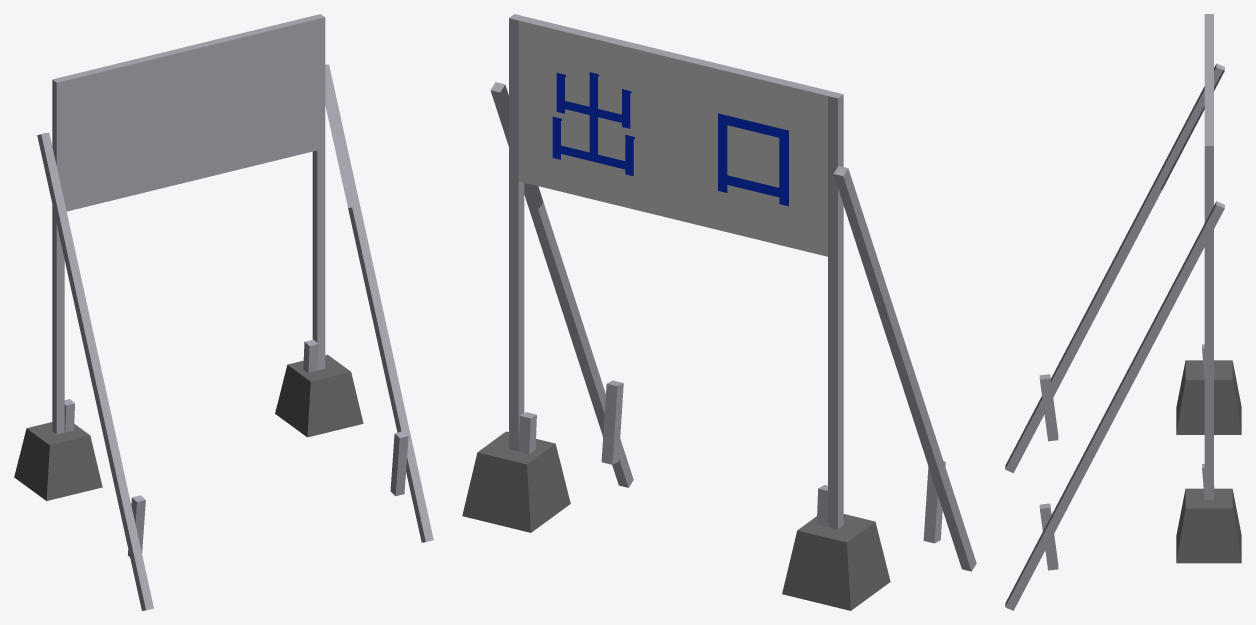
File: Deguti.fbx
3 views of the same model, side by side, from view 1: azimuth 30°, elevation 25°; view 2: azimuth 150°, elevation 25°; view 3: azimuth 270°, elevation 25° (orthographic). The views are drawn at different scales.
Visible parts, largest first — view 1: 立方体.011, 立方体.010; view 2: 立方体.011, 立方体.010, テキスト; view 3: 立方体.011, 立方体.010.
Part boxes in pixels (<box>): 立方体.011: <box>37,14,433,610</box>; 立方体.010: <box>14,354,363,500</box>; 立方体.011: <box>490,14,976,571</box>; 立方体.010: <box>462,431,890,610</box>; テキスト: <box>552,72,788,206</box>; 立方体.011: <box>1005,14,1224,610</box>; 立方体.010: <box>1176,360,1241,563</box>.
Bounding box in the file's own units: 1129 × 1553 × 723.
